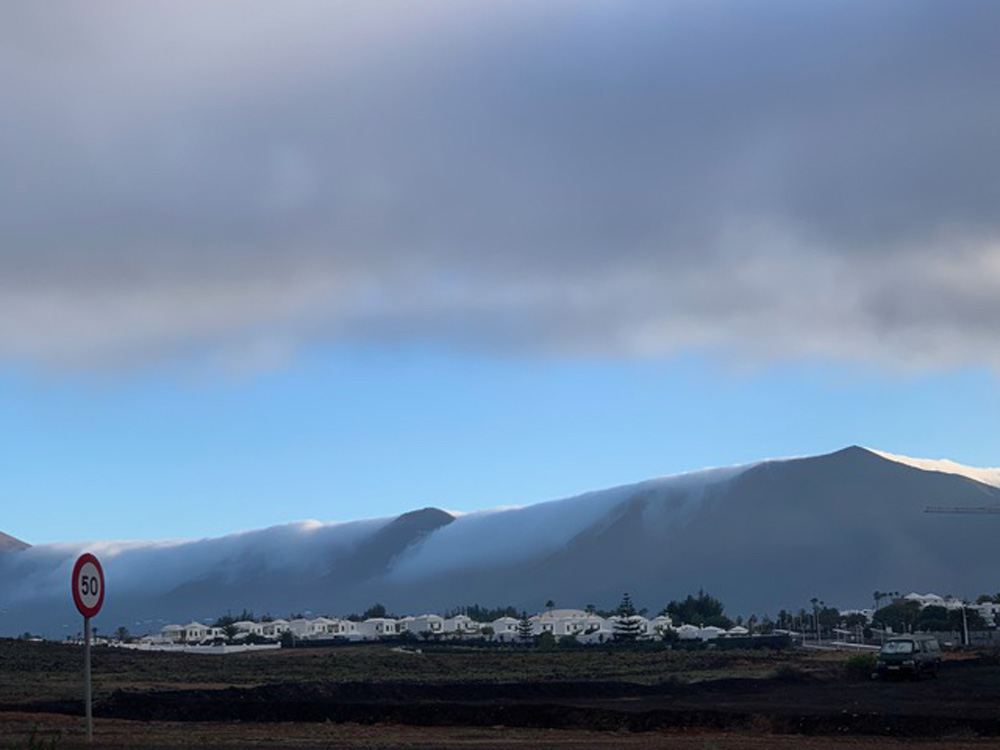Stratus: (5, 2, 1000, 381)
